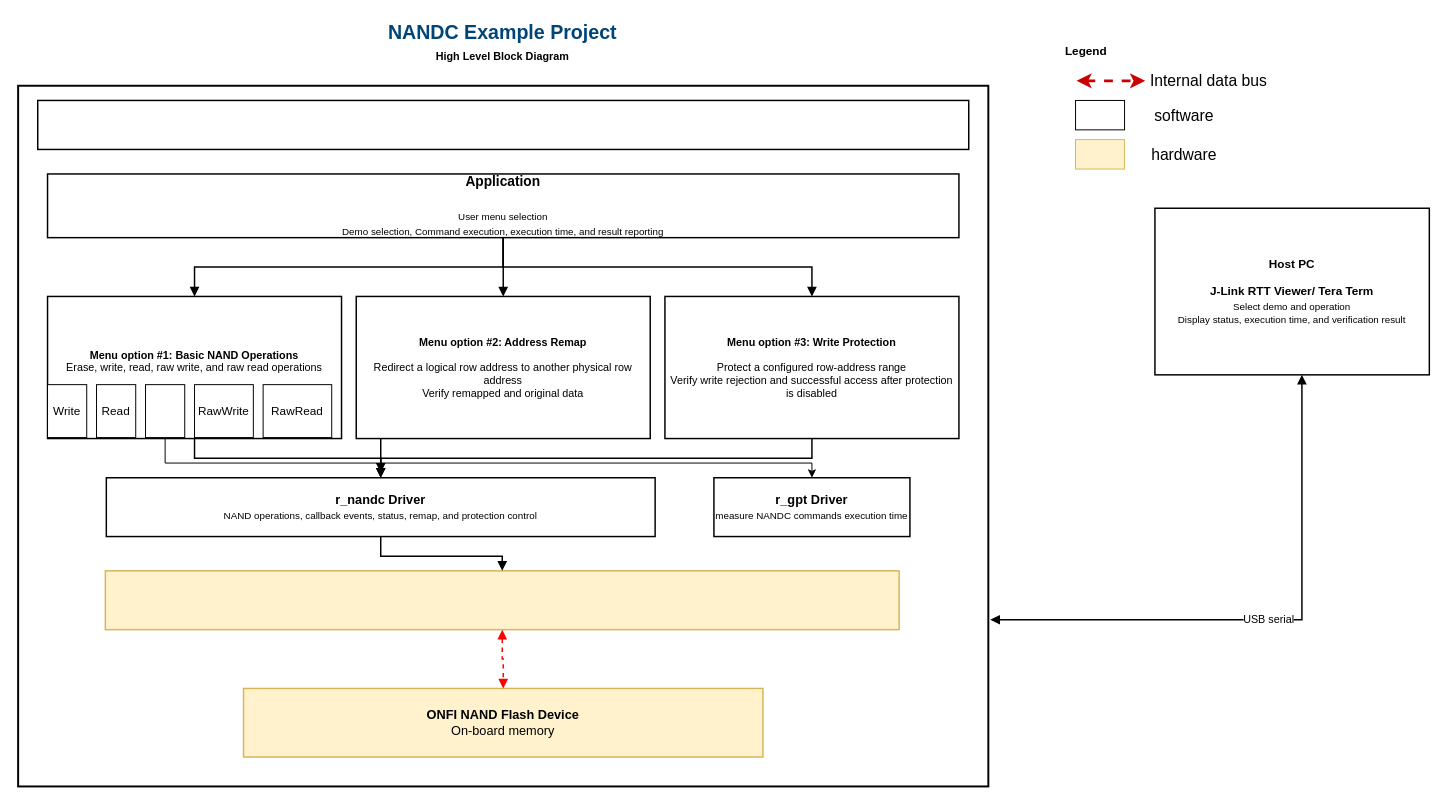
Some shapes in this 1446 by 804 pixel diagram are drawn without their labels. The centre of each missing label's shape, as x and y in pixels:
Erase: the point at 165,411
NAND Flash Controller Hardware Command engine| controller: the point at 501,600
RZ Board NAND Flash Controller Example Project: the point at 503,124
